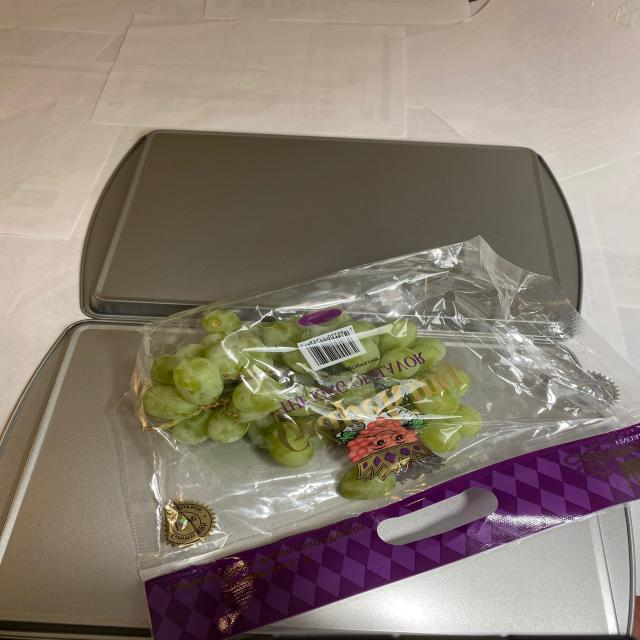grapes: (118, 311, 475, 482)
